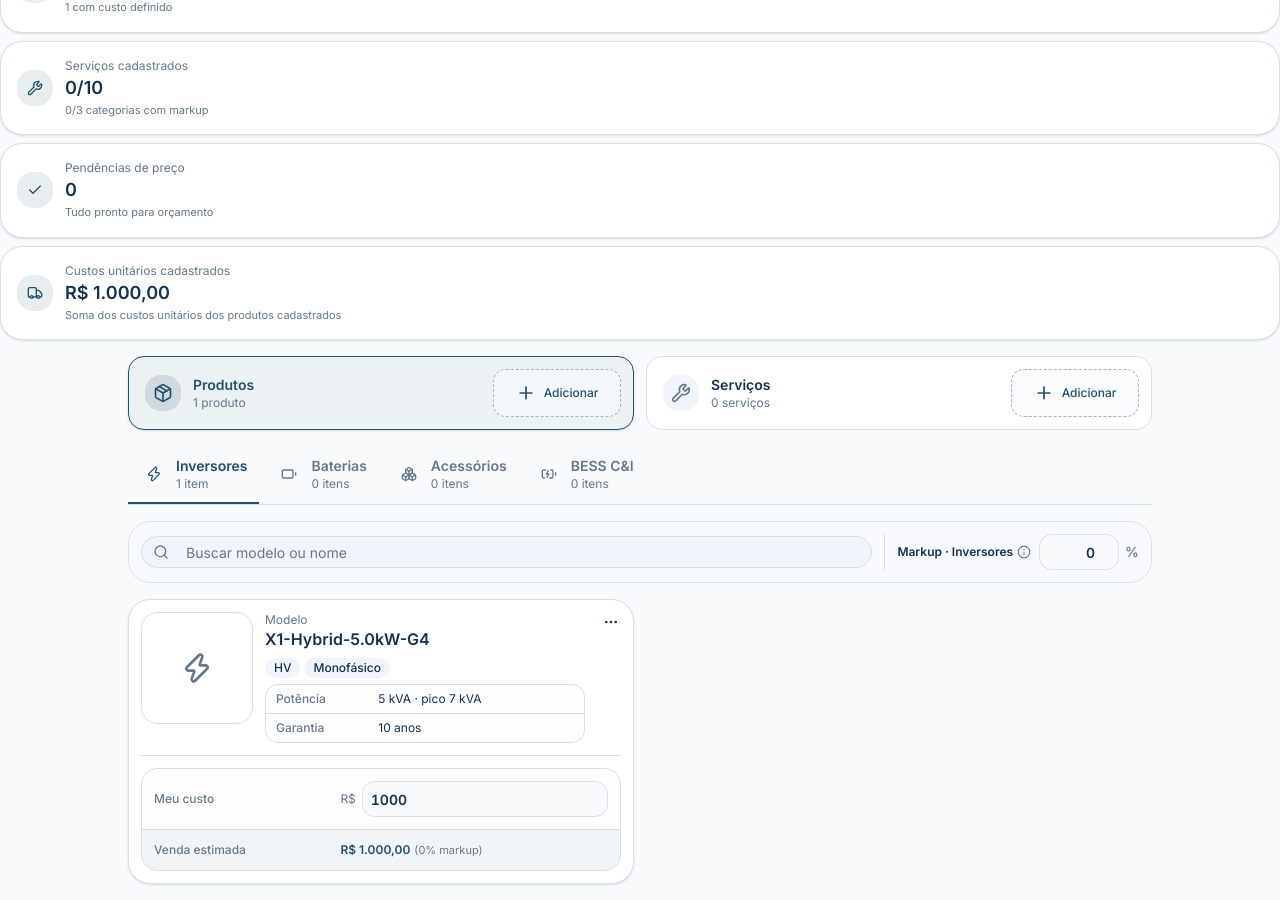
MyStockTab: editing price › shows a saved indicator after a successful inline price edit
The width and height of the screenshot is (1280, 900).
(page scrolled)
Replace the text in the number field named "Meu custo para X1-Hybrid-5.0kW-G4" with "1500" at (485, 799), box [362,781,608,817]
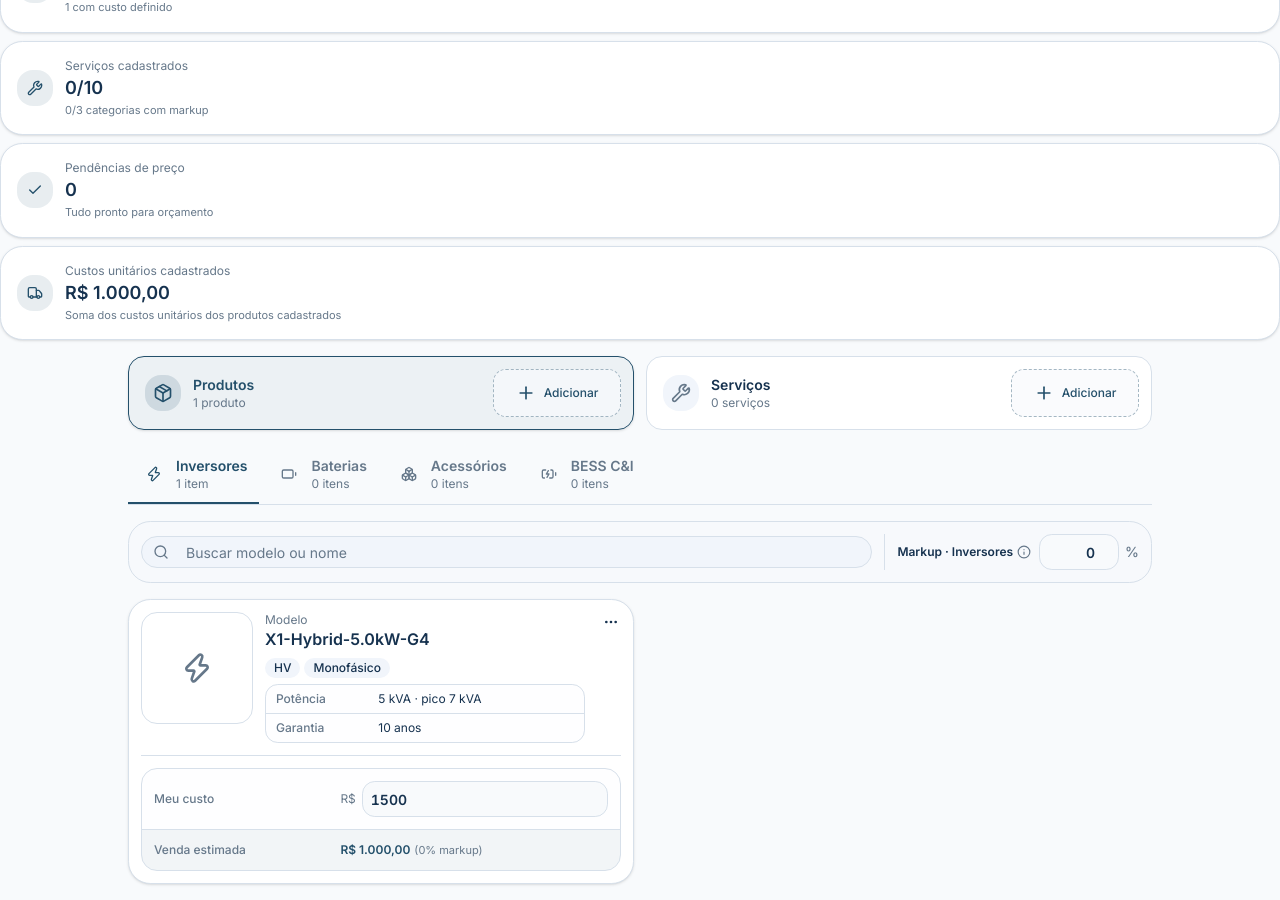
Leave the number field named "Meu custo para X1-Hybrid-5.0kW-G4", box [362,781,608,817]
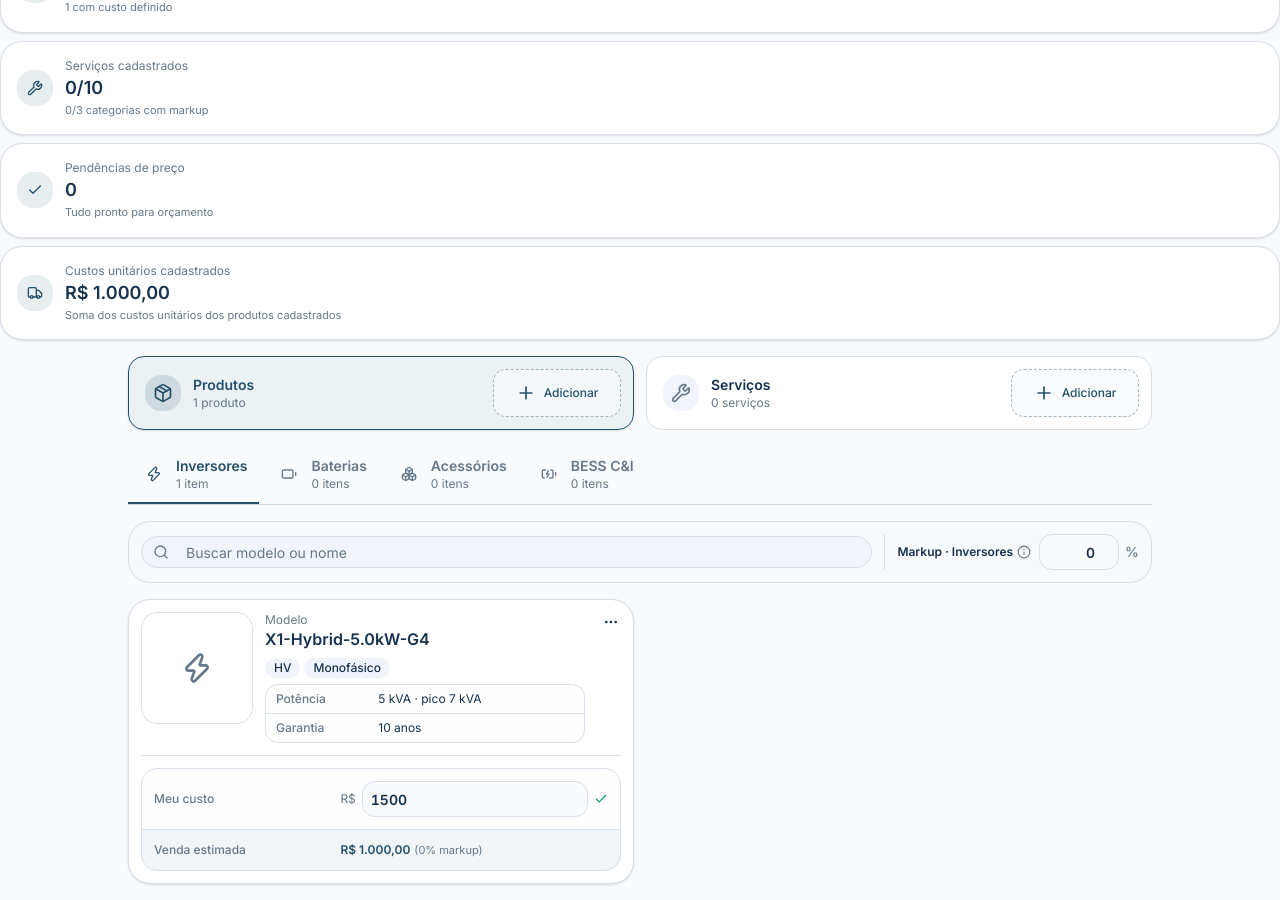
Check: the icon named "Salvo" is shown, box [594,792,608,806]
